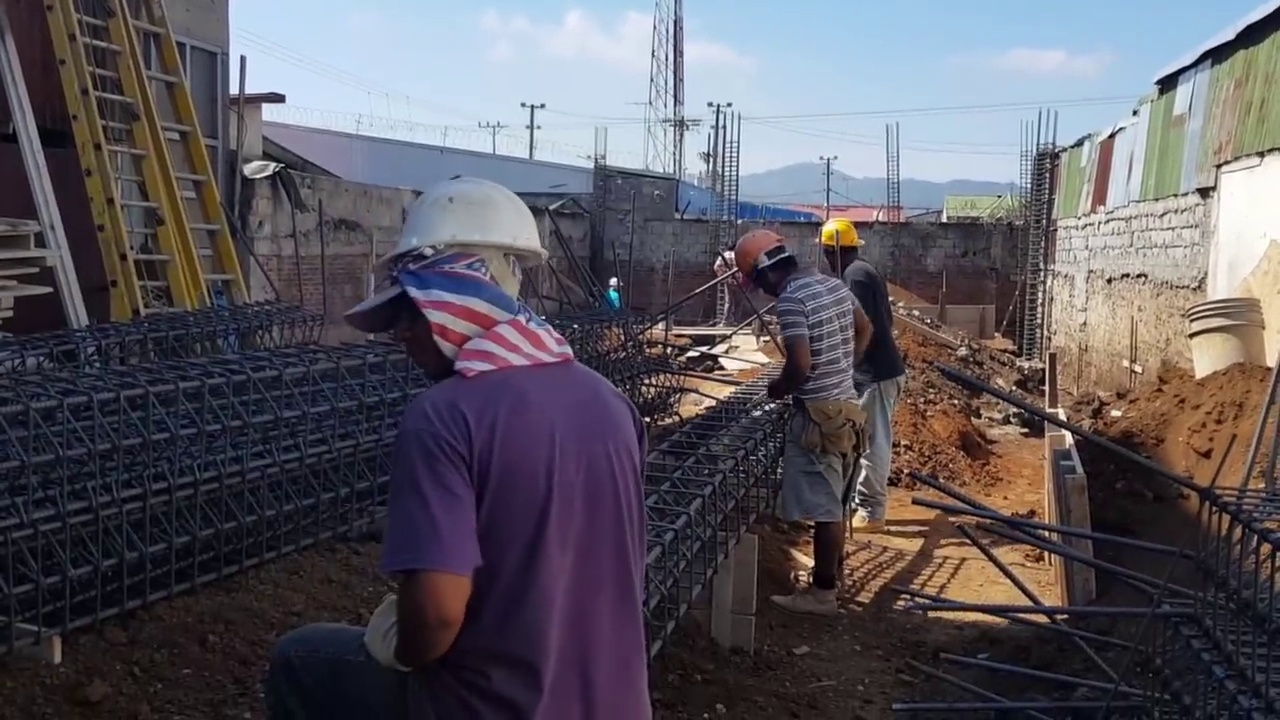helmet: (370, 180, 549, 272), (257, 624, 385, 707), (732, 229, 789, 276), (817, 214, 865, 250), (609, 278, 623, 288)
helmet-off: (726, 237, 737, 253)
helmet-on: (339, 179, 549, 375), (732, 229, 804, 299), (818, 213, 865, 264), (608, 275, 624, 293)
person: (336, 182, 657, 719), (733, 228, 872, 606), (817, 214, 911, 535), (712, 237, 746, 328), (603, 276, 625, 309)
